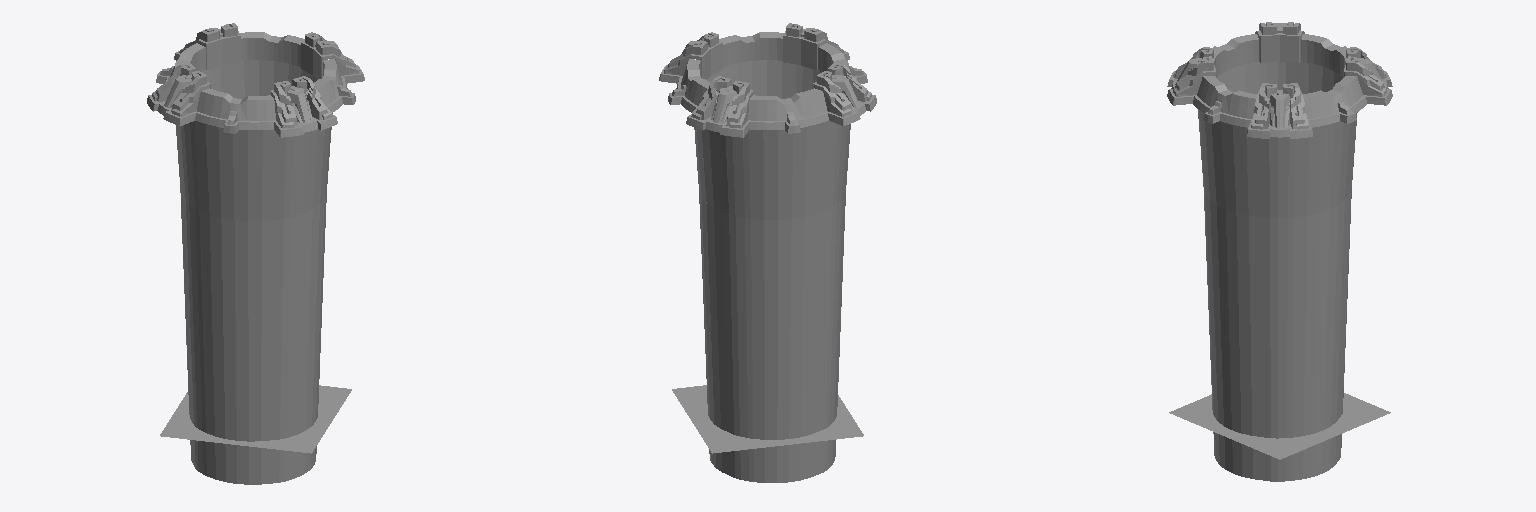
Rendered from order_nexus_rubble.obj.
3 views of the same model, side by side, from view 1: azimuth 30°, elevation 25°; view 2: azimuth 150°, elevation 25°; view 3: azimuth 270°, elevation 25° (orthographic).
Parts seen in each view (by area): view 1: lolMesh_sruap_ordernexus_rubble; view 2: lolMesh_sruap_ordernexus_rubble; view 3: lolMesh_sruap_ordernexus_rubble.
Part boxes in pixels (x1,y1,x2,y2): lolMesh_sruap_ordernexus_rubble: (147, 23, 364, 484); lolMesh_sruap_ordernexus_rubble: (659, 23, 876, 482); lolMesh_sruap_ordernexus_rubble: (1167, 22, 1392, 481).
Size of the model in its own units: 7.49 by 14.69 by 7.49.